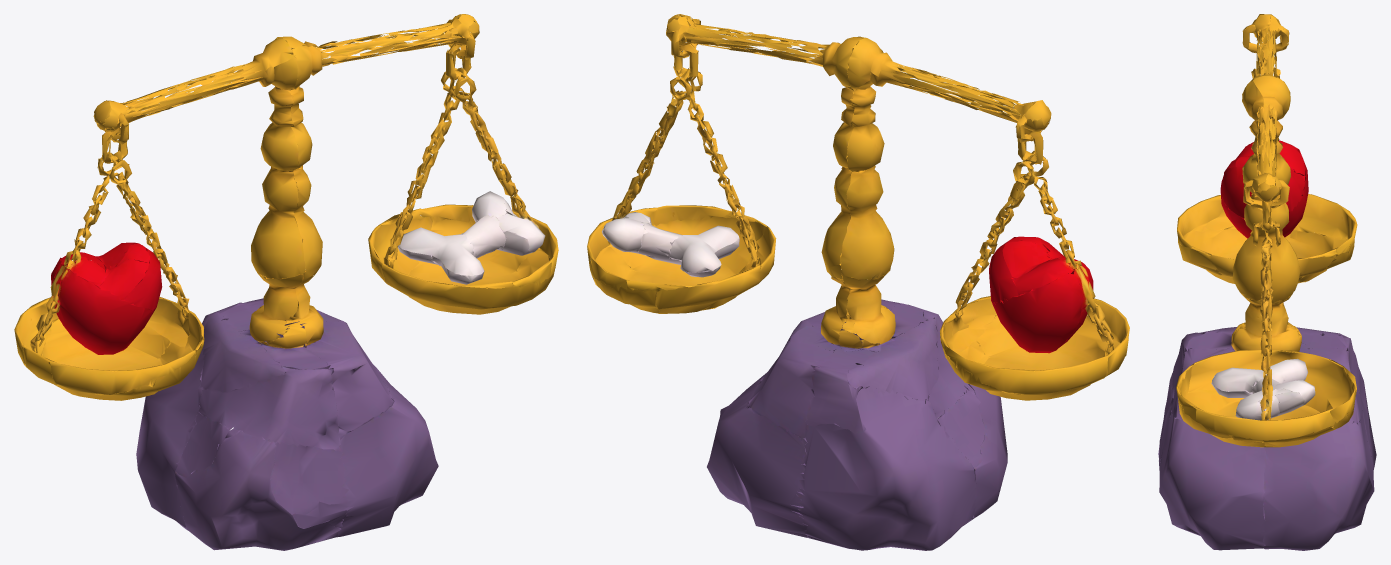
File: balance.glb
3 renders of one model, left to right at view 1: azimuth 30°, elevation 25°; view 2: azimuth 150°, elevation 25°; view 3: azimuth 270°, elevation 25°, orthographic. The views are drawn at different scales.
Visible parts, largest first — view 1: balance; view 2: balance; view 3: balance.
Boxes of the visible parts, x1,y1,x2,y2 form: balance: (14, 14, 558, 550); balance: (587, 14, 1129, 550); balance: (1158, 14, 1376, 550).
Bounding box in the file's own units: 1.16 × 1 × 0.4608.
1 material, 1 textured.
